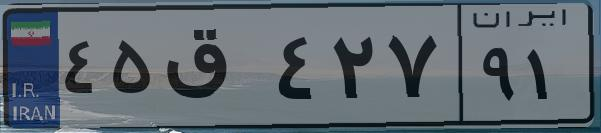1: (525, 38, 570, 115)
2: (330, 28, 385, 110)
4: (270, 28, 330, 110), (57, 26, 110, 100)
5: (110, 28, 158, 98)
7: (385, 28, 445, 110)
9: (475, 38, 525, 113)
ق: (158, 20, 270, 120)
